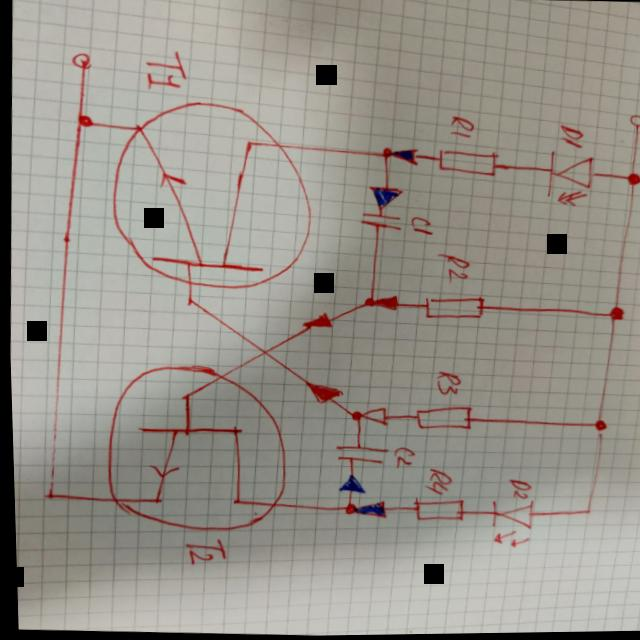capacitor: (328, 442, 386, 467), (354, 208, 402, 233)
crossover: (254, 345, 270, 358)
diode: (542, 152, 596, 209), (483, 493, 536, 550)
junction: (337, 500, 357, 517), (75, 112, 94, 129), (604, 307, 624, 323), (345, 408, 361, 424), (588, 419, 605, 434), (624, 173, 640, 188), (378, 147, 392, 160), (361, 296, 376, 308), (182, 297, 194, 307), (40, 491, 52, 499), (579, 509, 590, 516)
resistor: (435, 148, 499, 179), (410, 405, 472, 433), (420, 295, 484, 322), (408, 497, 462, 524)
terminal: (69, 50, 93, 72), (626, 114, 640, 131)
text: (139, 46, 192, 93), (179, 536, 225, 569), (435, 253, 470, 284), (419, 468, 451, 497), (431, 370, 460, 397), (556, 124, 586, 150), (446, 115, 475, 140), (407, 215, 434, 238), (504, 478, 530, 501), (390, 446, 414, 470)
transistor: (92, 97, 319, 295), (94, 356, 291, 544)
